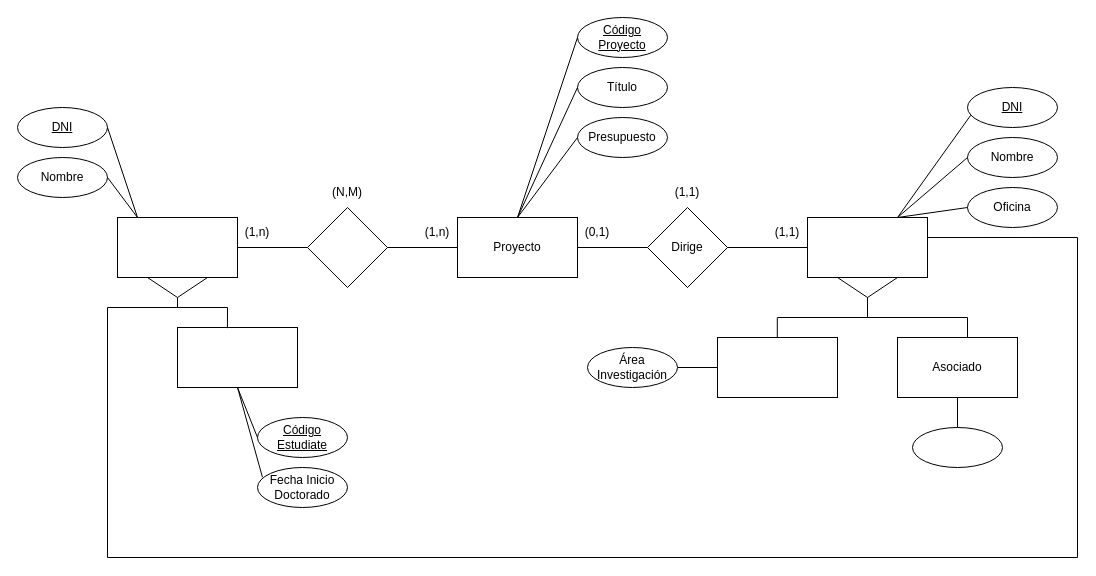
This 1096x576 diagram has some shape labels left out. Each missing label, with the centre of its shape:
Estudiante Doctorado: [237,357]
Horas Contrato: [957,447]
Investigadores: [177,247]
Participa: [347,247]
Profesor: [867,247]
Titular: [777,367]
